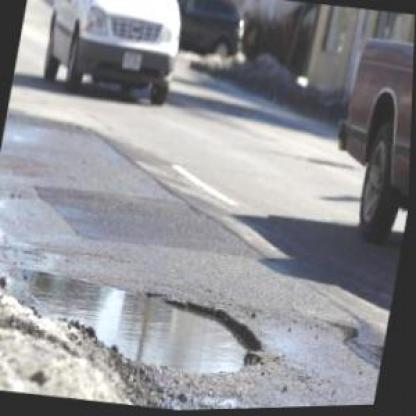pothole: (6, 259, 278, 384), (330, 321, 363, 346)
